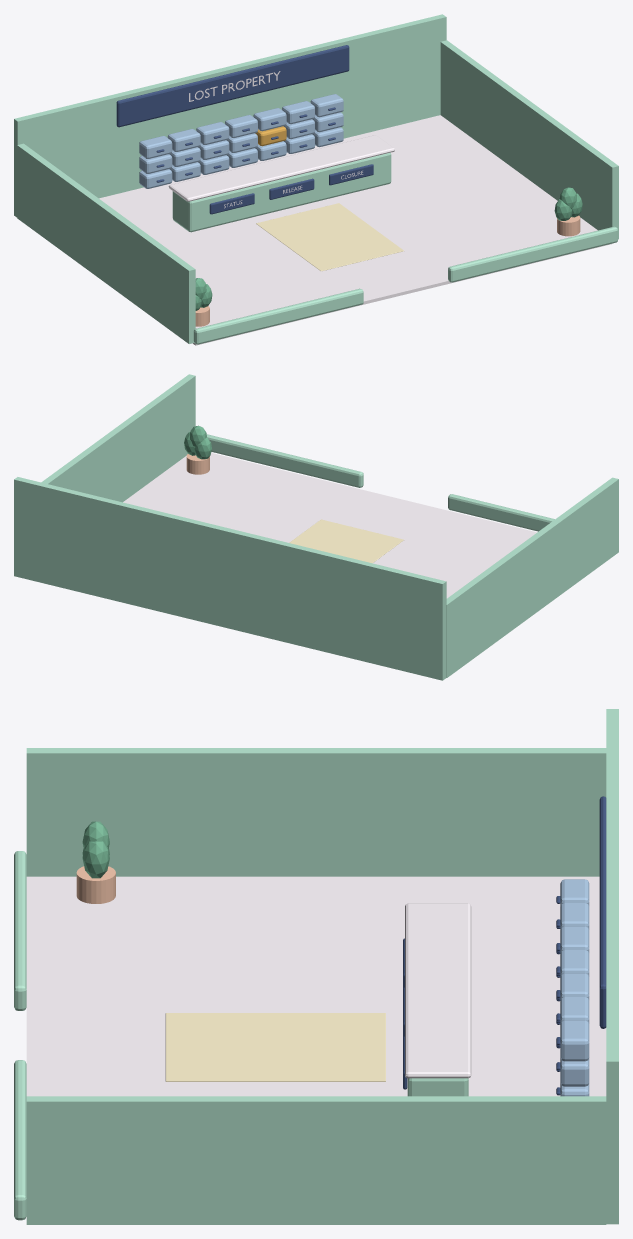
The picture shows the model from 3 angles, top to bottom: view 1: azimuth 30°, elevation 25°; view 2: azimuth 150°, elevation 25°; view 3: azimuth 270°, elevation 25°; orthographic projection. The views are drawn at different scales.
Visible parts, largest first — view 1: floor, Back wall, Side wall, Side wall.001, Wall sign, blocker.release-counter, Queue runner, Counter top, Front sill, Front sill.001, Tagged drawer.014, Tagged drawer.016 (+10 smaller); view 2: Back wall, floor, Side wall, Side wall.001, Queue runner, Front sill.001, Front sill; view 3: floor, Side wall.001, Side wall, Queue runner, Counter top, Back wall, Front sill.001, Front sill, Wall sign, Tagged drawer.020, blocker.planter, blocker.release-counter (+8 smaller).
Part boxes in pixels (box(x1,y1,x2,y2)): floor: box(99, 115, 611, 345); Back wall: box(14, 14, 446, 217); Side wall: box(17, 143, 195, 343); Side wall.001: box(440, 40, 618, 239); Wall sign: box(116, 45, 349, 127); blocker.release-counter: box(172, 152, 391, 232); Queue runner: box(256, 203, 403, 271); Counter top: box(168, 135, 394, 201); Front sill: box(193, 288, 363, 344); Front sill.001: box(448, 226, 617, 282); Tagged drawer.014: box(139, 136, 172, 158); Tagged drawer.016: box(196, 122, 229, 144); Back wall: box(14, 477, 446, 680); floor: box(123, 453, 536, 598); Side wall: box(446, 477, 618, 677); Side wall.001: box(41, 374, 195, 502); Queue runner: box(289, 519, 403, 563); Front sill.001: box(206, 434, 363, 487); Front sill: box(448, 494, 554, 531); floor: box(26, 876, 606, 1096); Side wall.001: box(26, 1096, 606, 1224); Side wall: box(26, 748, 606, 876); Queue runner: box(165, 1013, 385, 1081); Counter top: box(405, 903, 471, 1078); Back wall: box(606, 709, 618, 1224); Front sill.001: box(14, 1060, 26, 1220); Front sill: box(14, 851, 26, 1010); Wall sign: box(599, 796, 606, 1028); Tagged drawer.020: box(560, 1020, 589, 1061); blocker.planter: box(76, 866, 115, 903); blocker.release-counter: box(407, 1078, 468, 1096).
Size of the model in its own units: 14.44 by 3.2 by 10.44.
